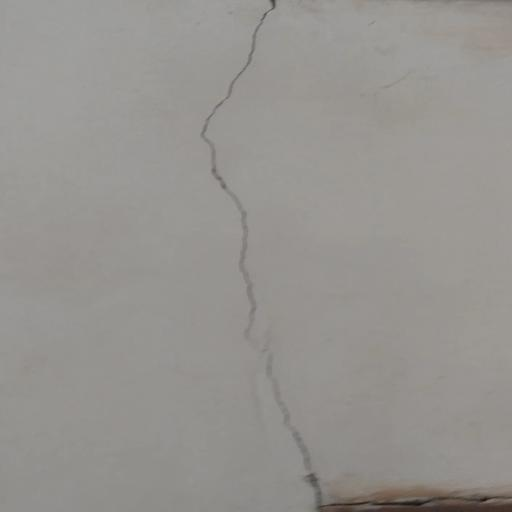minor_crack: (184, 0, 335, 512), (319, 471, 512, 512)
